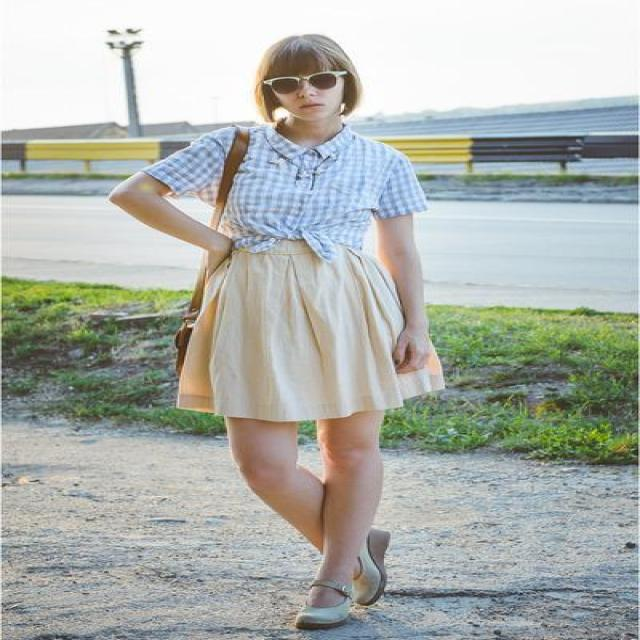bag: (165, 120, 286, 344)
shirt: (154, 122, 438, 266)
shoe: (310, 524, 402, 620)
skirt: (176, 244, 445, 422)
